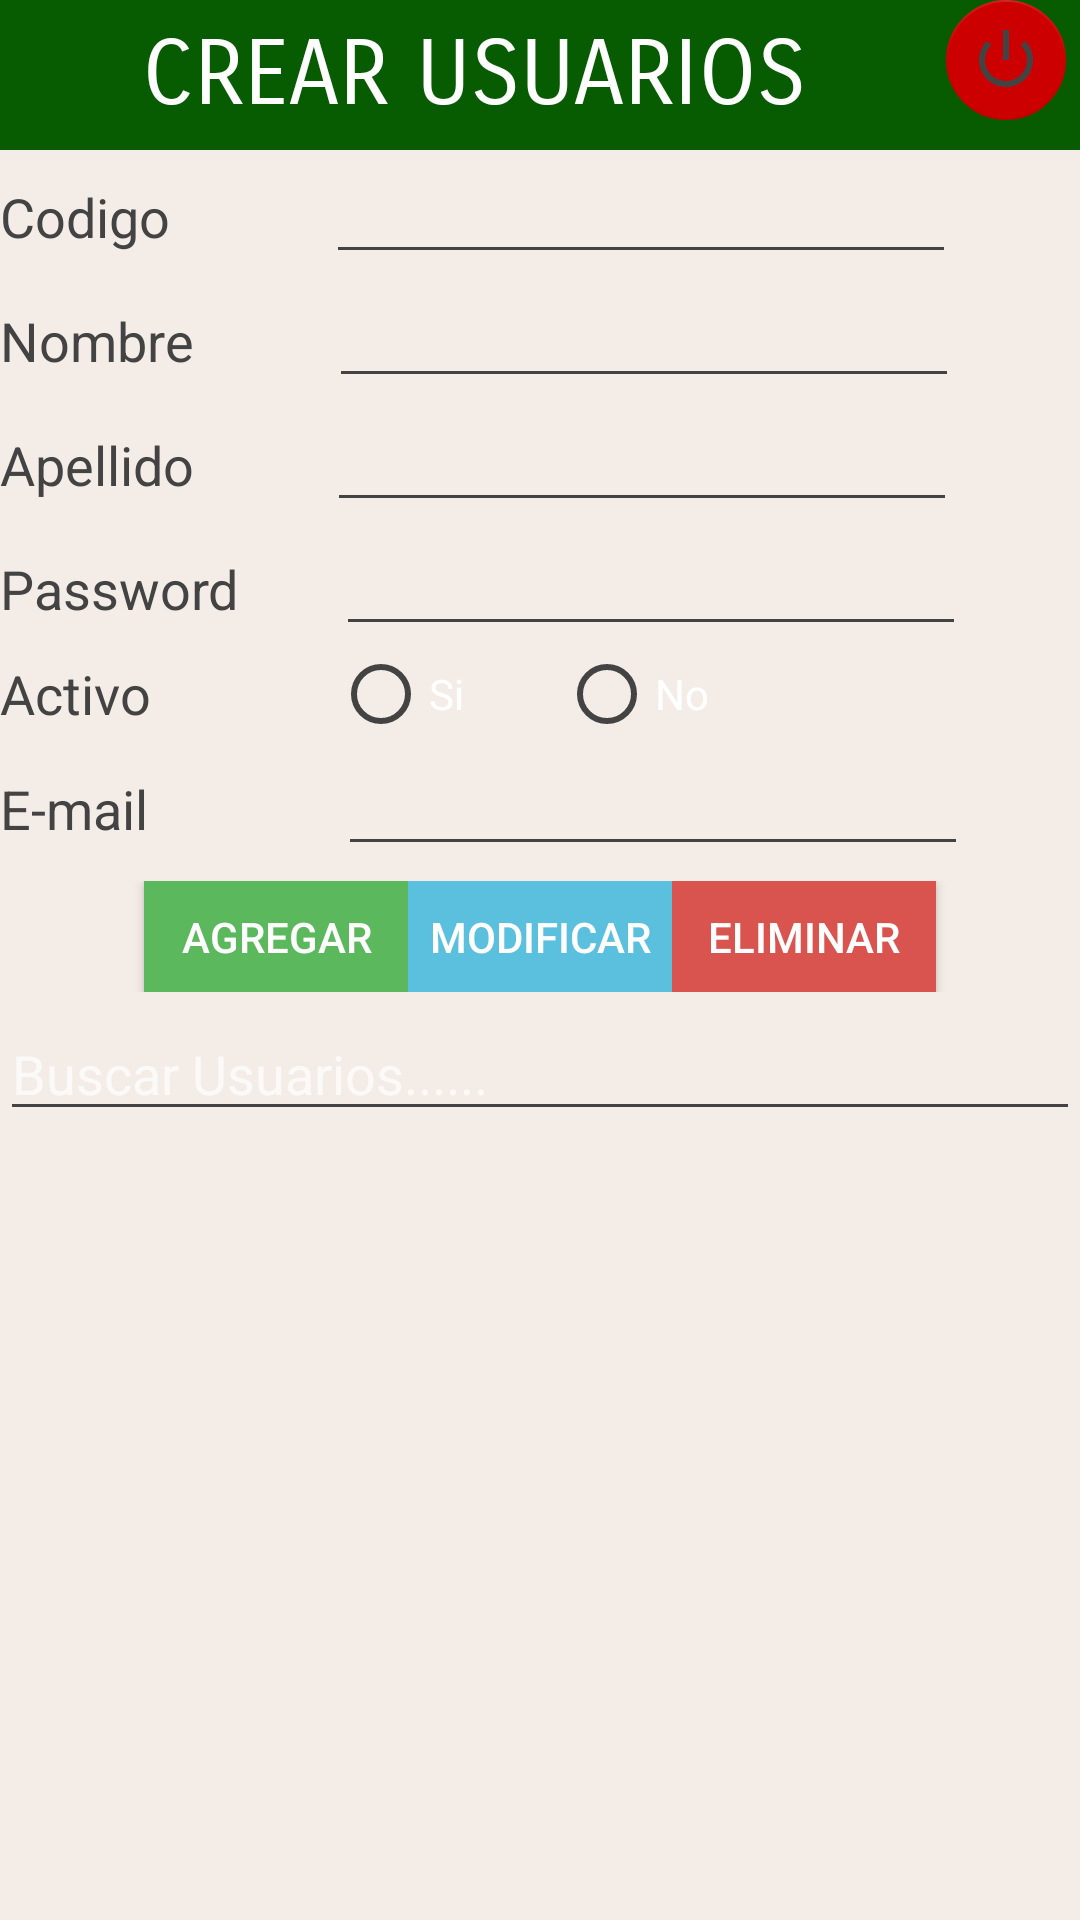

Icon bounding boxes for this 1080w x 1920h phone screenshot, format (x1, y1, x2, y2):
lock power off: (946, 0, 1066, 120)
